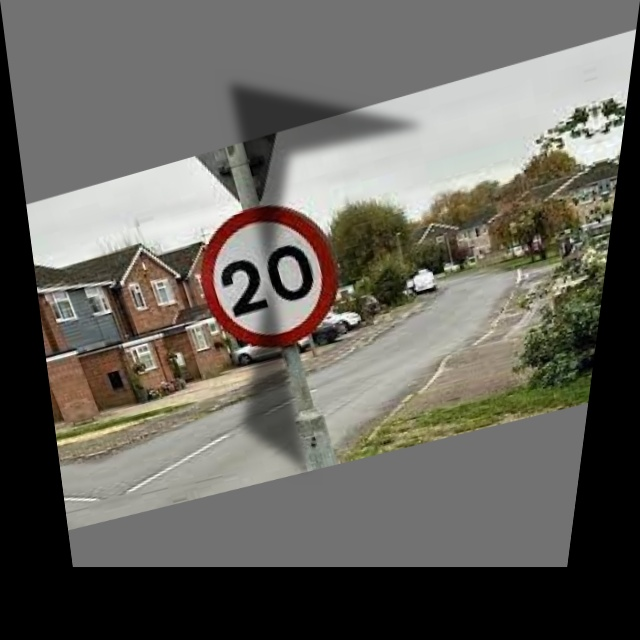Speed_Limit_20: (181, 189, 351, 358)
